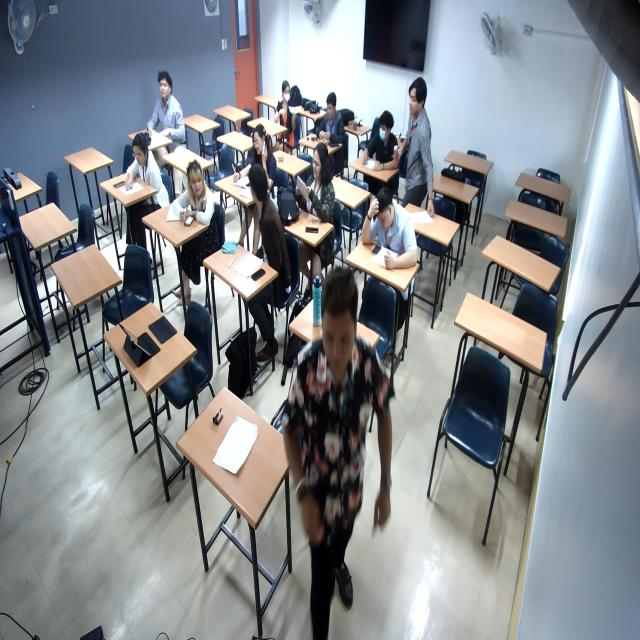read: (220, 124, 282, 196), (119, 137, 165, 208)
